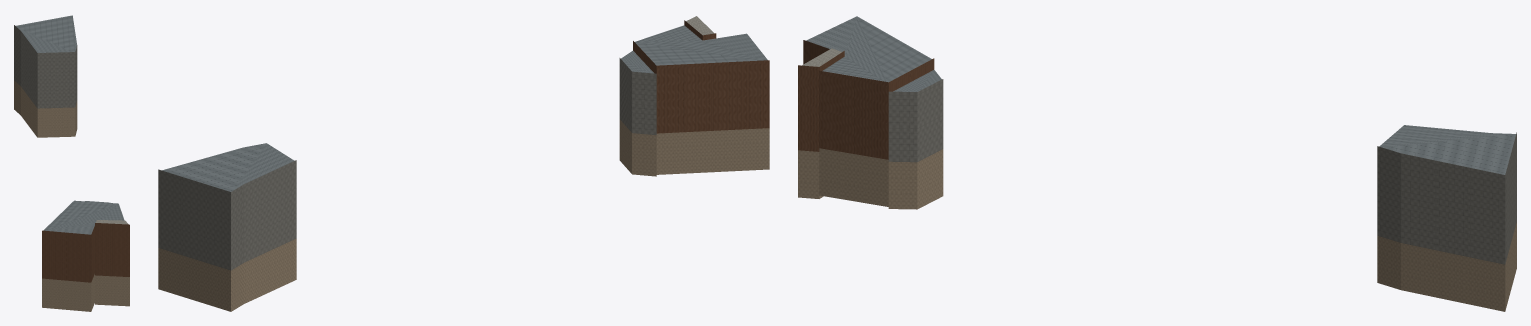
The model's file is bld_c23_-48_534.gltf.
3 renders of one model, left to right at view 1: azimuth 30°, elevation 25°; view 2: azimuth 150°, elevation 25°; view 3: azimuth 270°, elevation 25°, orthographic. The views are drawn at different scales.
Parts seen in each view (by area): view 1: bld_c23_-48_534; view 2: bld_c23_-48_534; view 3: bld_c23_-48_534.
Part boxes in pixels (bbox=[...]): bld_c23_-48_534: bbox=[14, 15, 129, 311]; bld_c23_-48_534: bbox=[158, 16, 769, 311]; bld_c23_-48_534: bbox=[798, 16, 1516, 311].
Bounding box in the file's own units: 42.26 × 16.18 × 70.36.
7 materials, 7 textured.
